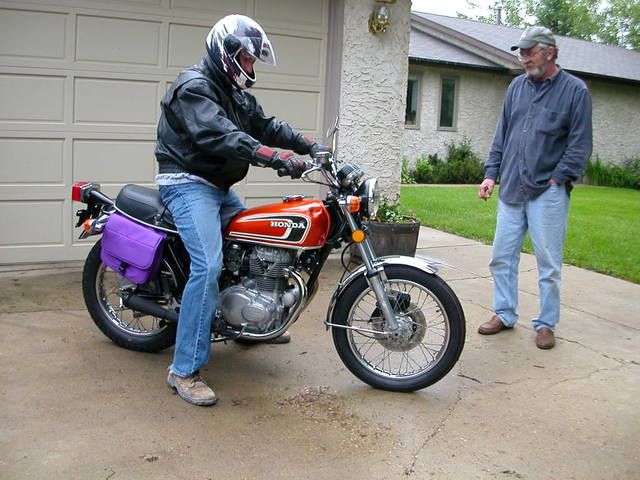helmet: (204, 13, 275, 95)
